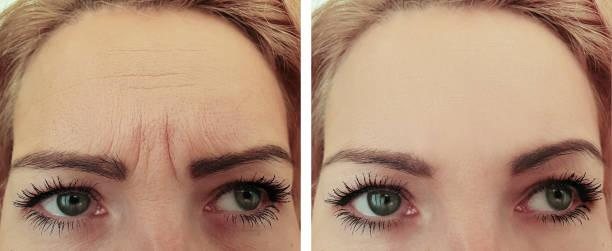Dry-Skin: (66, 37, 229, 166)
